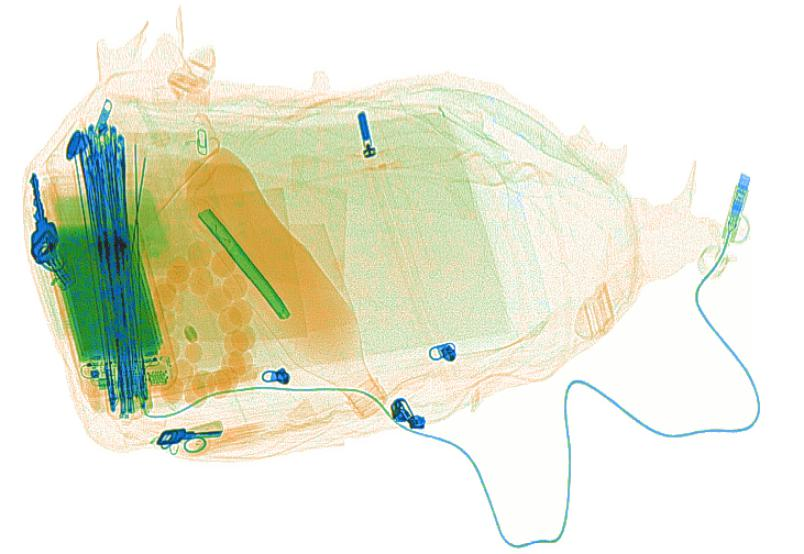knife: (196, 208, 290, 323)
